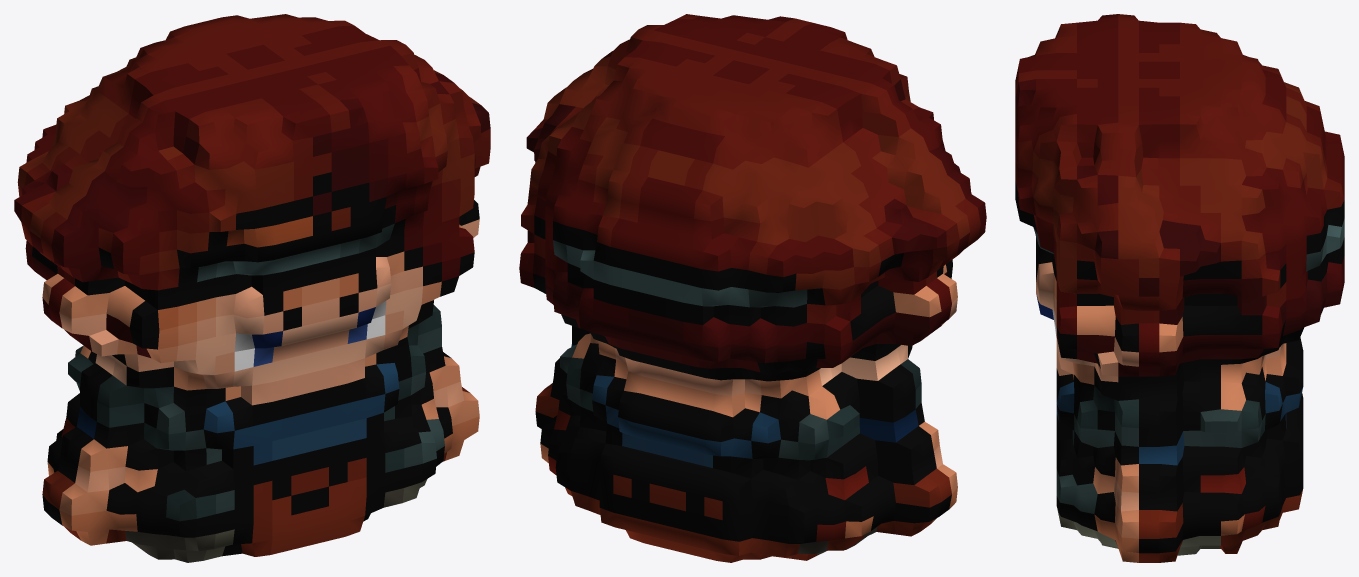
Rendered from Icon_719_02.obj.
3 views of the same model, side by side, from view 1: azimuth 30°, elevation 25°; view 2: azimuth 150°, elevation 25°; view 3: azimuth 270°, elevation 25° (orthographic). The views are drawn at different scales.
Size of the model in its own units: 2.3 by 2.3 by 1.6.
1 material, 1 textured.
